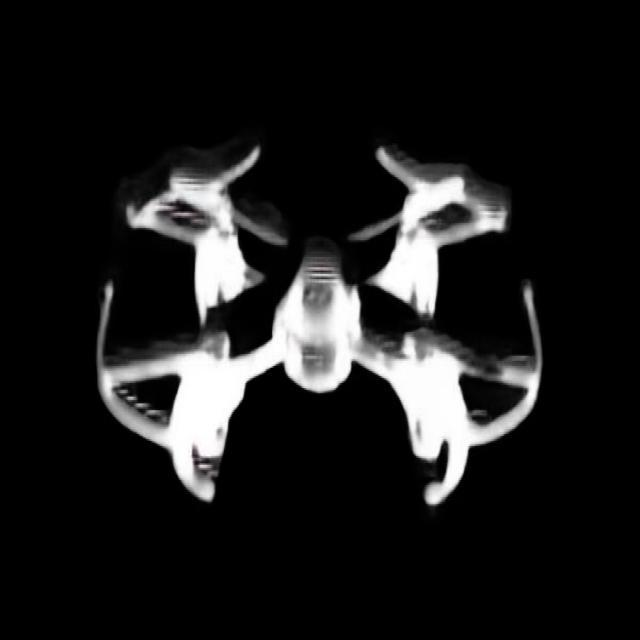drone: (93, 109, 545, 534)
